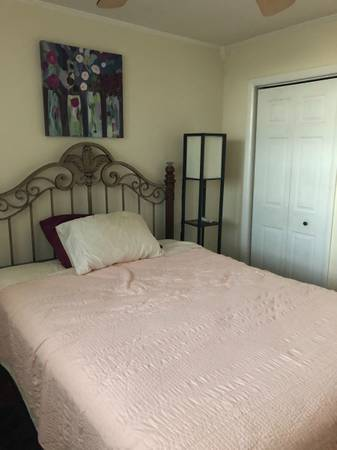bed: (2, 198, 337, 450)
